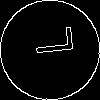L: (25, 25, 73, 57)
